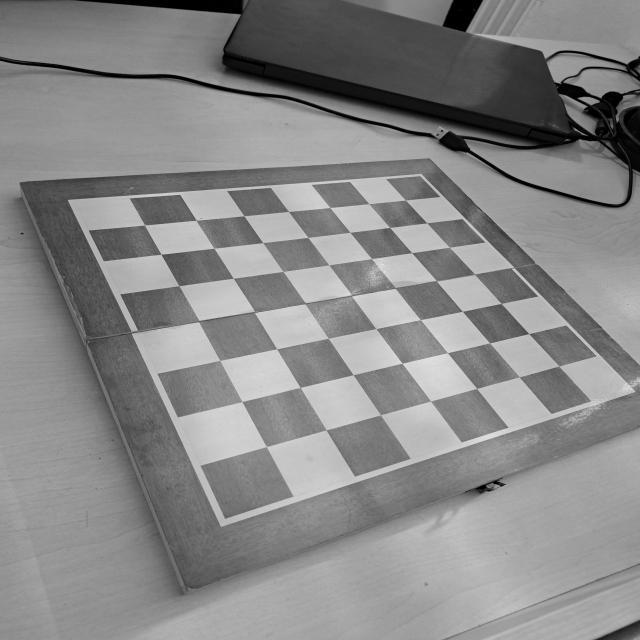chess-table-corners: (210, 508, 240, 530), (62, 196, 86, 212), (615, 382, 637, 398), (410, 170, 430, 183)
